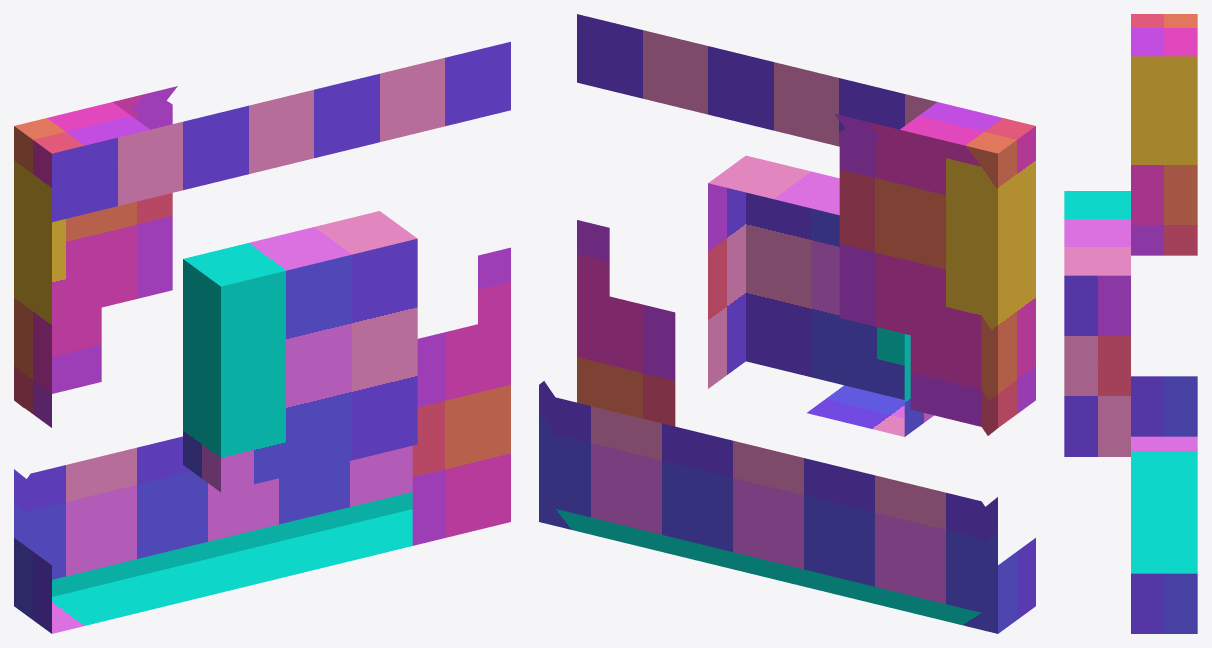
File: panel.obj
3 views of the same model, side by side, from view 1: azimuth 30°, elevation 25°; view 2: azimuth 150°, elevation 25°; view 3: azimuth 270°, elevation 25° (orthographic). The views are drawn at different scales.
Parts seen in each view (by area): view 1: Panel_Cube; view 2: Panel_Cube; view 3: Panel_Cube.
Boxes of the visible parts, box(x1,y1,x2,y2) form: Panel_Cube: box(14, 41, 510, 633); Panel_Cube: box(539, 14, 1035, 633); Panel_Cube: box(1064, 14, 1197, 633).
Size of the model in its own units: 0.4375 by 0.4375 by 0.125.
